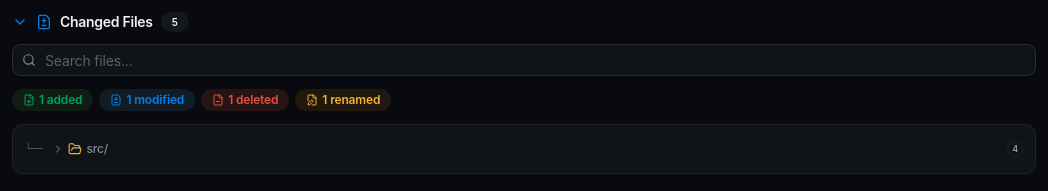
it: ChangedFilesSection › collapse/expand › should show chevron right when collapsed
The image size is (1048, 191).
Click the button "Changed Files 5": coordinates (106, 22) [12,12,1036,32]
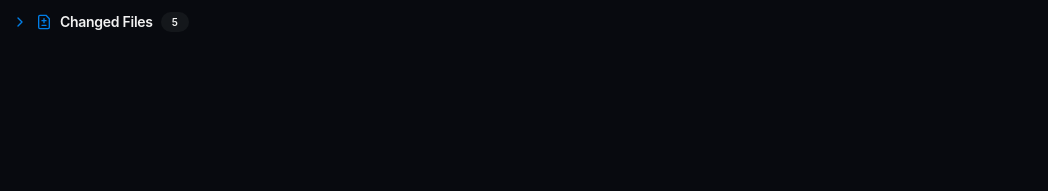
Now the icon with class "lucide-chevron-right" is shown, box [12,14,28,30]
